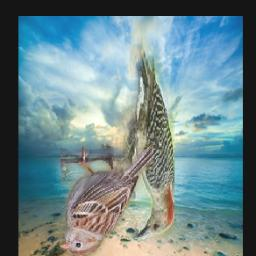Sparrow: (60, 143, 153, 256)
Woodpecker: (115, 37, 174, 238)
